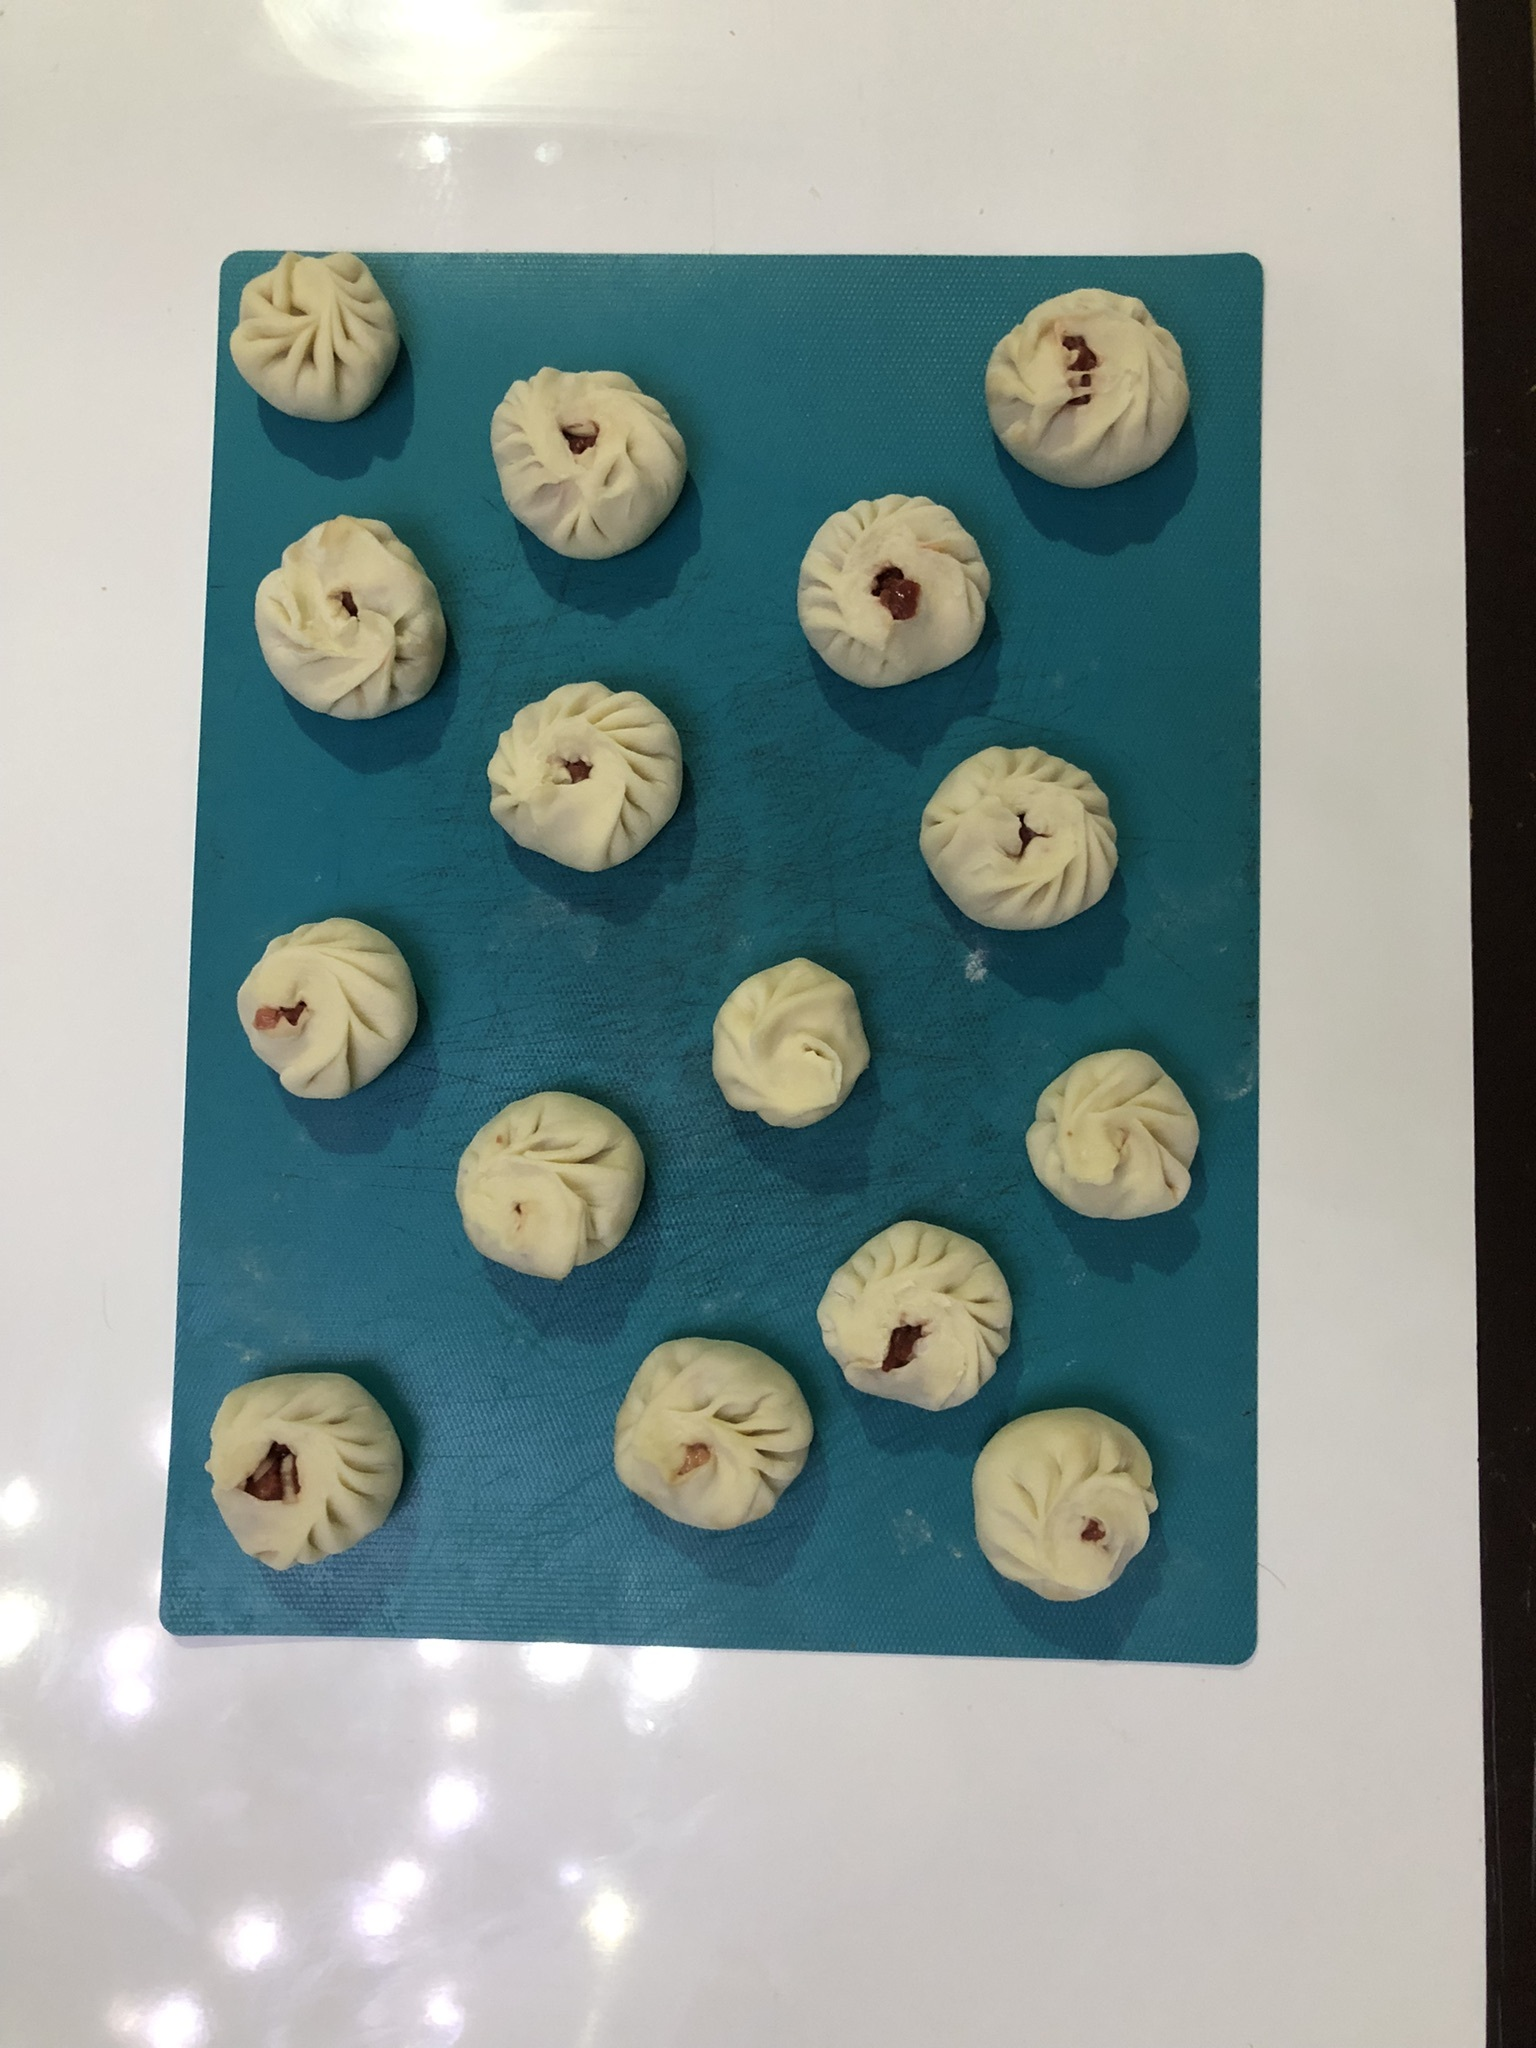buuz: (975, 282, 1196, 497), (200, 1364, 423, 1576), (248, 510, 457, 727), (486, 361, 699, 569), (808, 1214, 1021, 1417), (479, 676, 694, 877), (608, 1334, 820, 1535), (792, 489, 999, 693), (913, 740, 1126, 937), (450, 1084, 657, 1285), (966, 1403, 1162, 1605), (232, 911, 428, 1105), (1013, 1042, 1208, 1226), (224, 248, 408, 432), (703, 951, 883, 1135)
